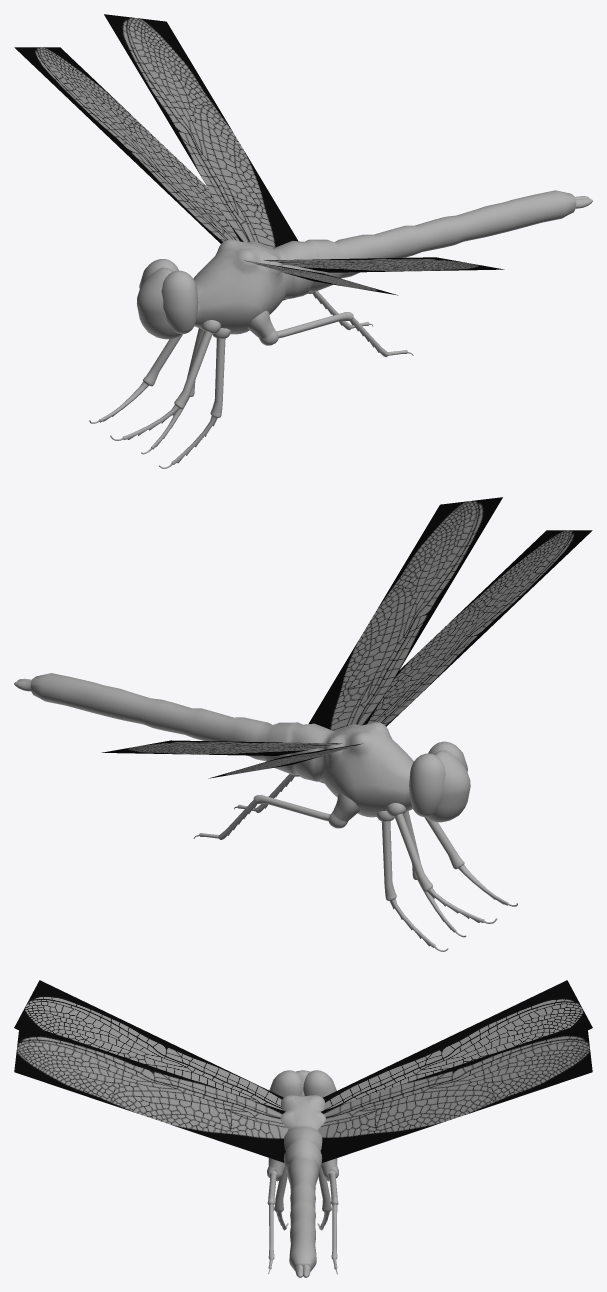
The model's file is Dragonfly_test.fbx.
The picture shows the model from 3 angles, top to bottom: view 1: azimuth 30°, elevation 25°; view 2: azimuth 150°, elevation 25°; view 3: azimuth 270°, elevation 25°; orthographic projection. The views are drawn at different scales.
Visible parts, largest first — view 1: Wings, Dragonfly; view 2: Wings, Dragonfly; view 3: Wings, Dragonfly.
Boxes of the visible parts, x1,y1,x2,y2 form: Wings: (14, 14, 504, 295); Dragonfly: (89, 190, 592, 468); Wings: (101, 497, 592, 778); Dragonfly: (14, 673, 517, 951); Wings: (14, 980, 592, 1162); Dragonfly: (267, 1070, 338, 1277).
Size of the model in its own units: 2840 by 1644 by 3399.
2 materials, 1 textured.
